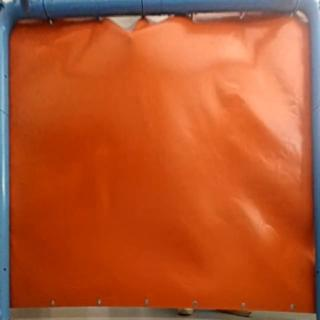Hit-hRxx: (124, 32, 138, 46)
